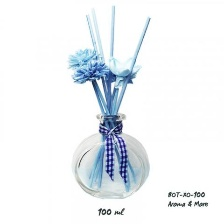bottle: (67, 109, 155, 204)
